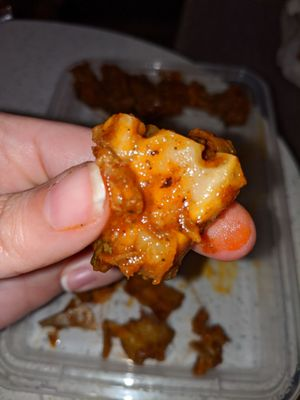pizza: (0, 111, 110, 309)
